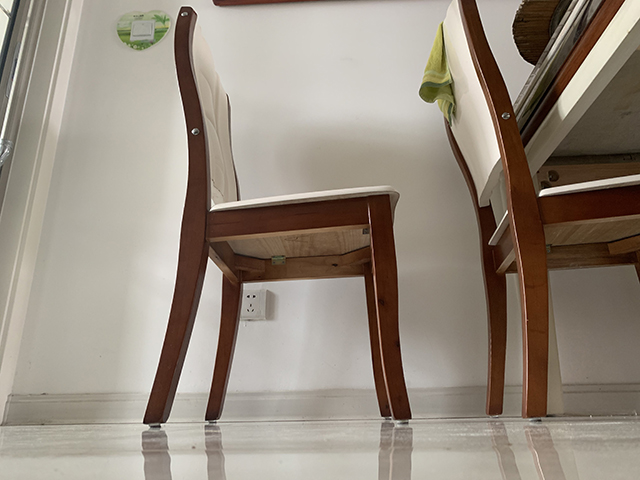stool: (141, 5, 414, 430), (418, 1, 640, 424)
